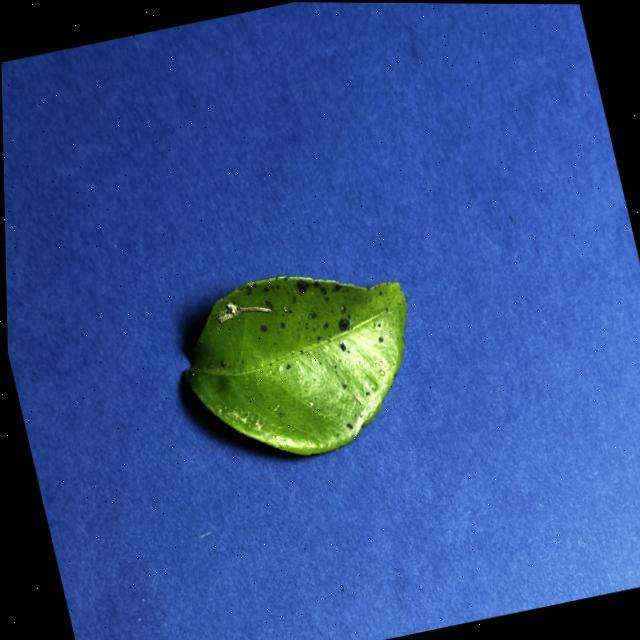sooty_mold: (185, 275, 405, 453)
